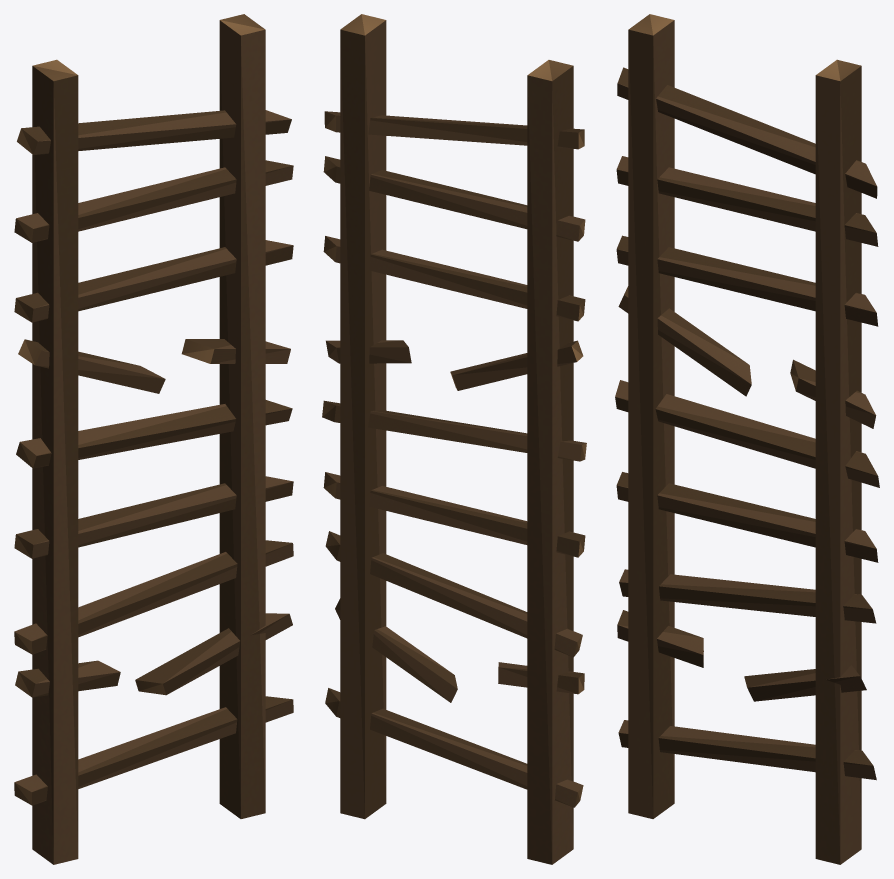
The model's file is Wood_Ladder.fbx.
3 views of the same model, side by side, from view 1: azimuth 30°, elevation 25°; view 2: azimuth 150°, elevation 25°; view 3: azimuth 330°, elevation 25° (orthographic).
Visible parts, largest first — view 1: polySurface1082; view 2: polySurface1082; view 3: polySurface1082.
Part boxes in pixels (left/top/right/bottom): polySurface1082: left=14, top=14, right=293, bottom=864; polySurface1082: left=322, top=14, right=586, bottom=864; polySurface1082: left=615, top=14, right=879, bottom=864.
Size of the model in its own units: 356 by 1000 by 54.18.
Materials: 1 (1 with a texture image).
